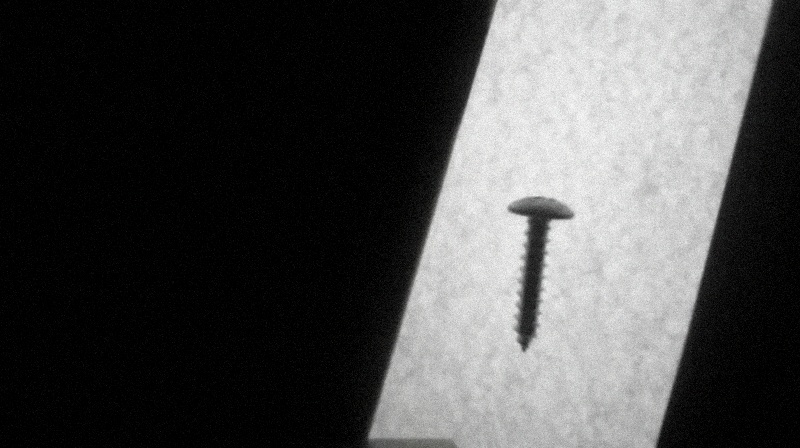S003: (503, 193, 578, 356)
